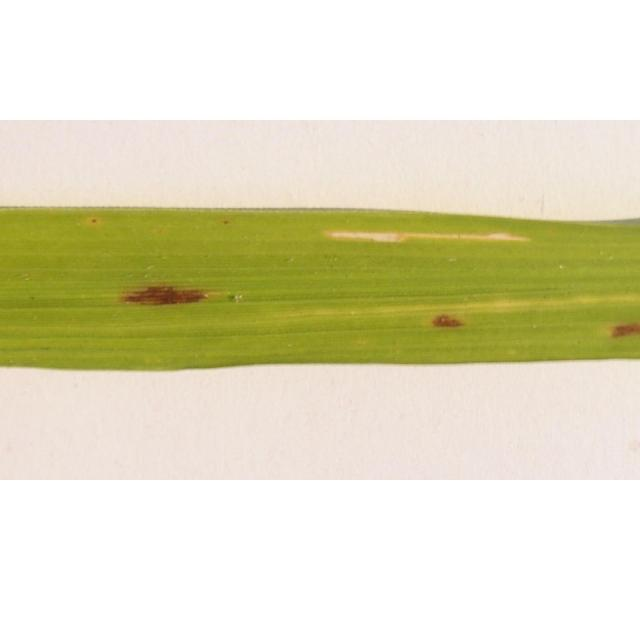Bacterial leaf blight: (309, 223, 540, 256)
Brown spot: (107, 271, 250, 313), (419, 296, 483, 338), (587, 309, 640, 349), (214, 209, 250, 228), (84, 208, 112, 231)
